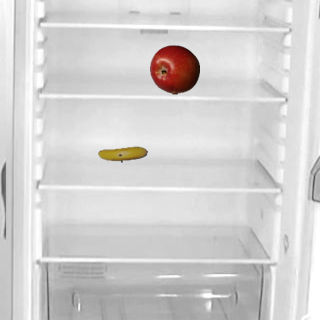Apple Braeburn: (149, 44, 199, 94)
Banana: (97, 129, 147, 179)
